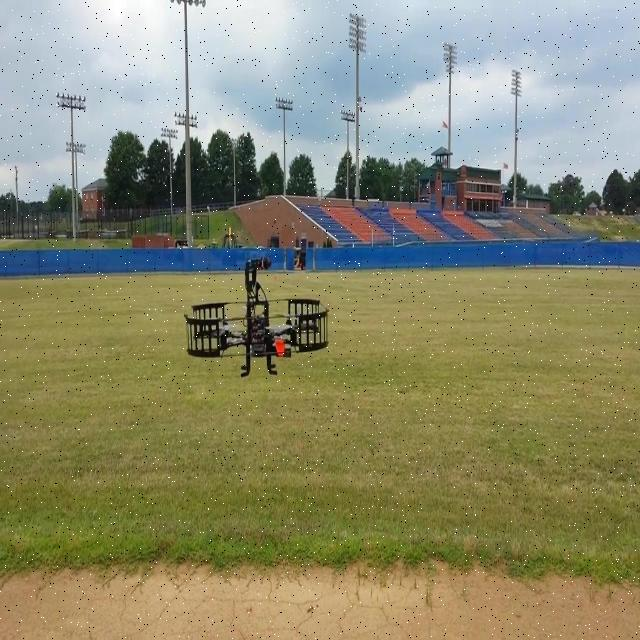UAV: (184, 256, 330, 378)
